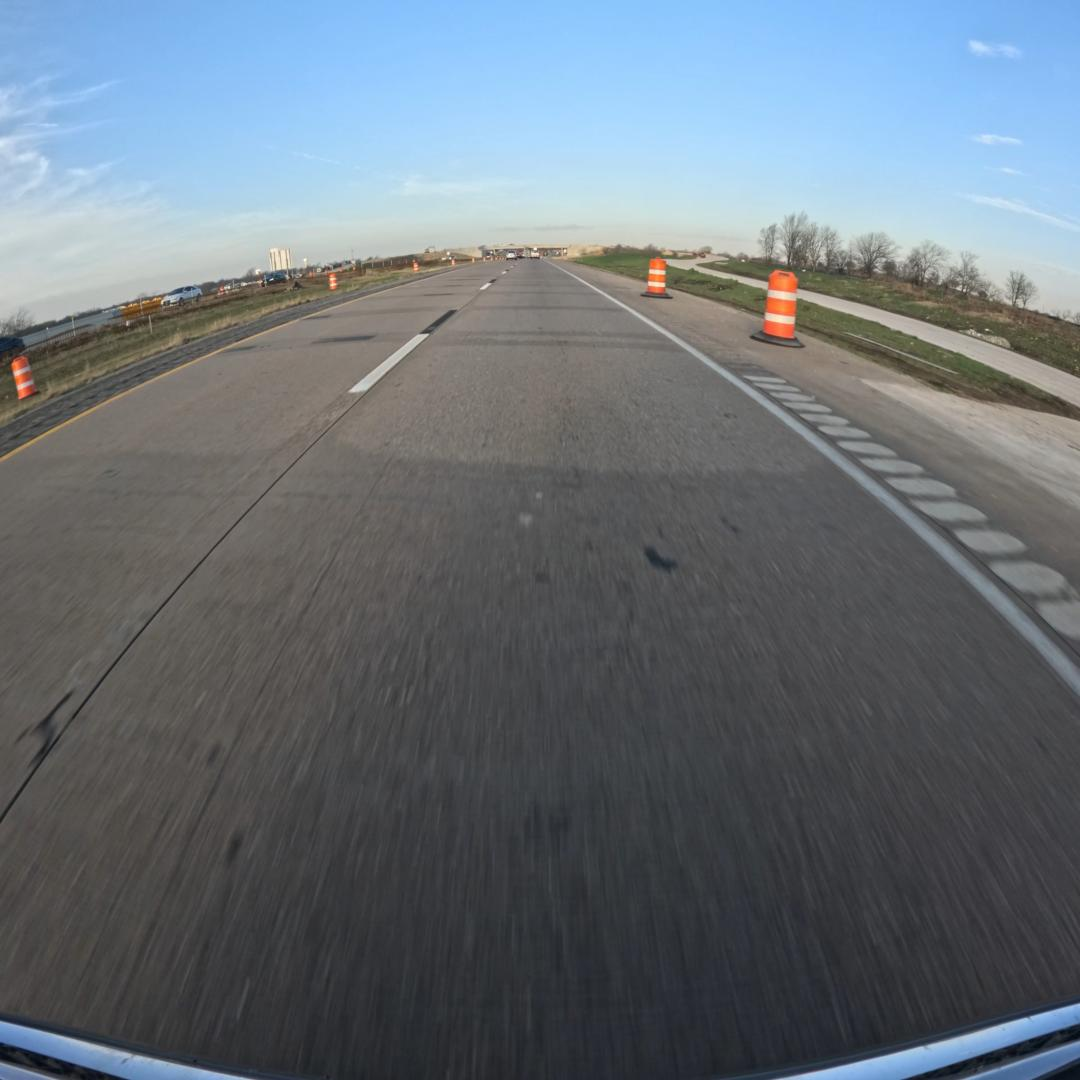lane0: (0, 263, 1080, 1080)
lane1: (0, 265, 502, 819)
